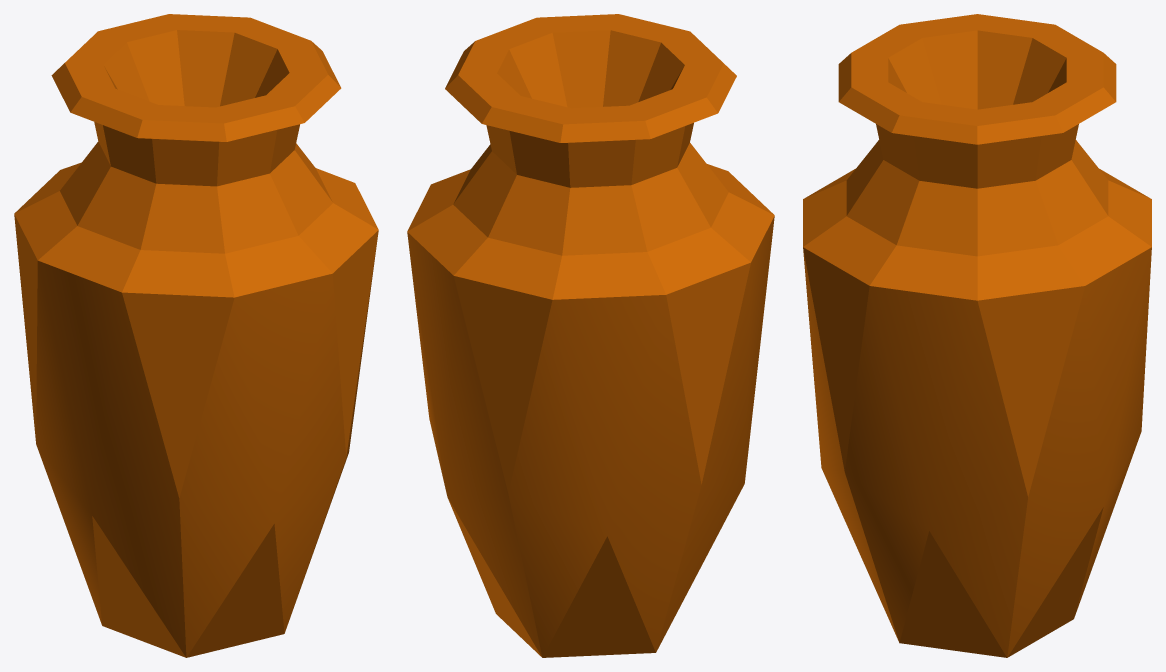
File: Urn_New_01.fbx
The picture shows the model from 3 angles, left to right: view 1: azimuth 30°, elevation 25°; view 2: azimuth 150°, elevation 25°; view 3: azimuth 270°, elevation 25°; orthographic projection.
Visible parts, largest first — view 1: Model; view 2: Model; view 3: Model.
Boxes of the visible parts, <box> form: Model: <box>14,14,378,657</box>; Model: <box>407,14,774,657</box>; Model: <box>803,14,1151,657</box>.
Bounding box in the file's own units: 83.51 × 138 × 79.43.
